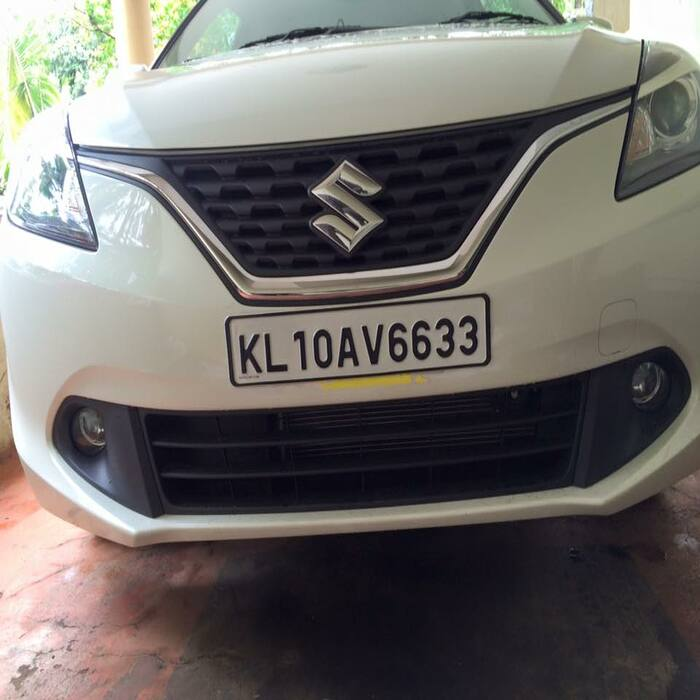n: (197, 298, 541, 377)
